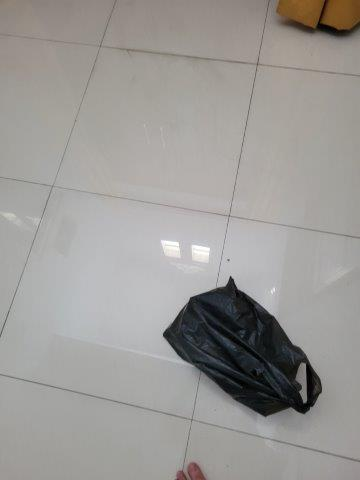plastik: (164, 278, 324, 417)
